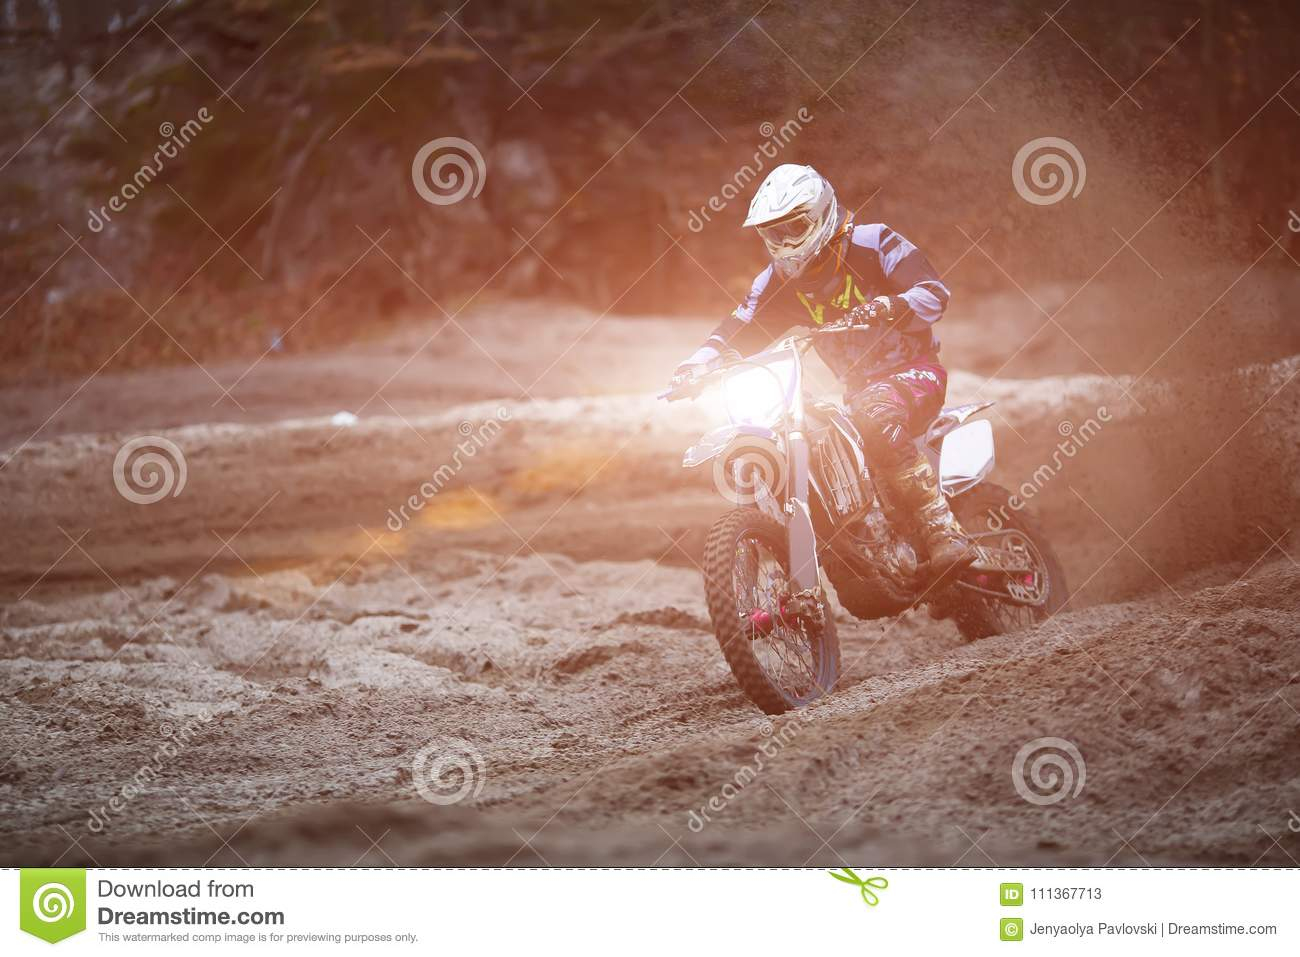helmet: (751, 169, 846, 283)
